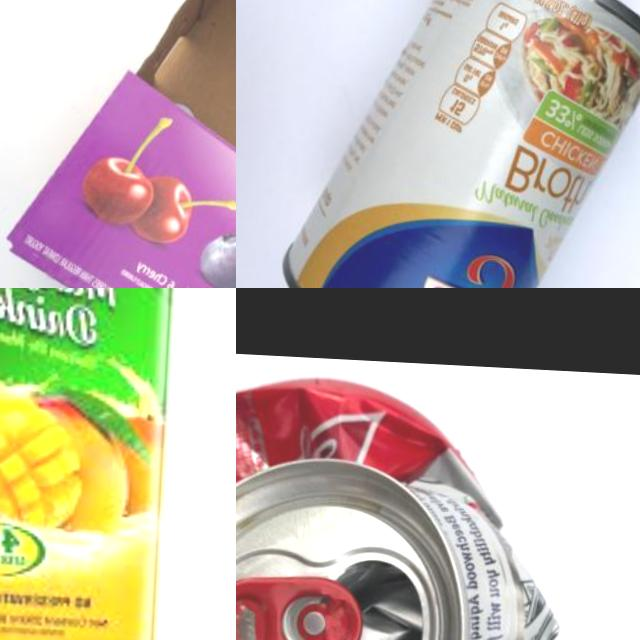aba de lata: (236, 567, 366, 640)
caixinha: (0, 288, 188, 640)
lata: (281, 0, 640, 288), (236, 364, 574, 640)
papelão: (0, 0, 236, 288)
